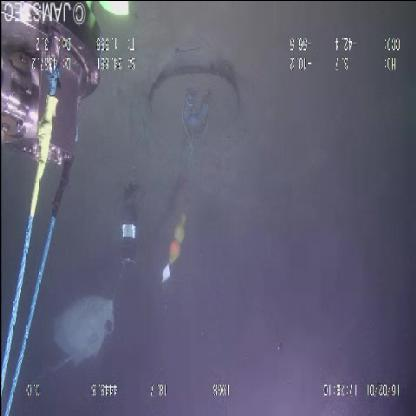Rov: (1, 1, 248, 289)
Rác: (48, 294, 119, 372)
